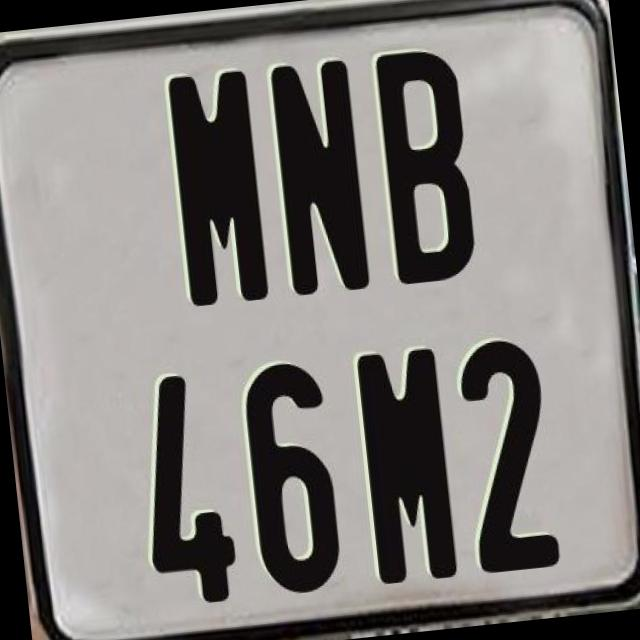2: (457, 336, 561, 580)
4: (129, 369, 240, 611)
6: (238, 356, 346, 602)
B: (372, 42, 476, 280)
M: (354, 341, 464, 589), (164, 68, 269, 314)
N: (268, 58, 371, 304)
